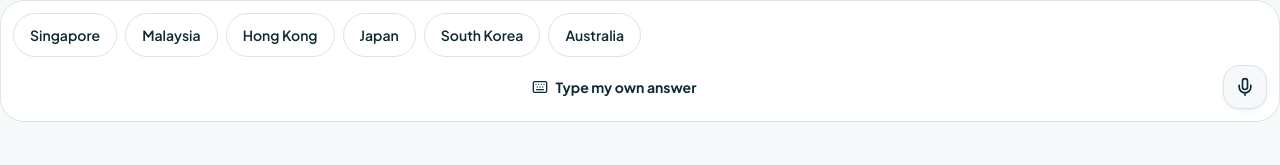
Test: the microphone on a helper › leaves 'Type my own answer' alone: typing opens the box without listening
Step 1. Click the button "Type my own answer" → click(614, 87), box [13, 65, 1215, 109]
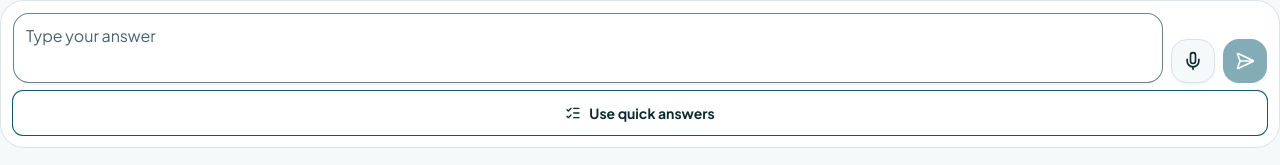
Expected: the text box is shown, [13, 13, 1163, 83]
